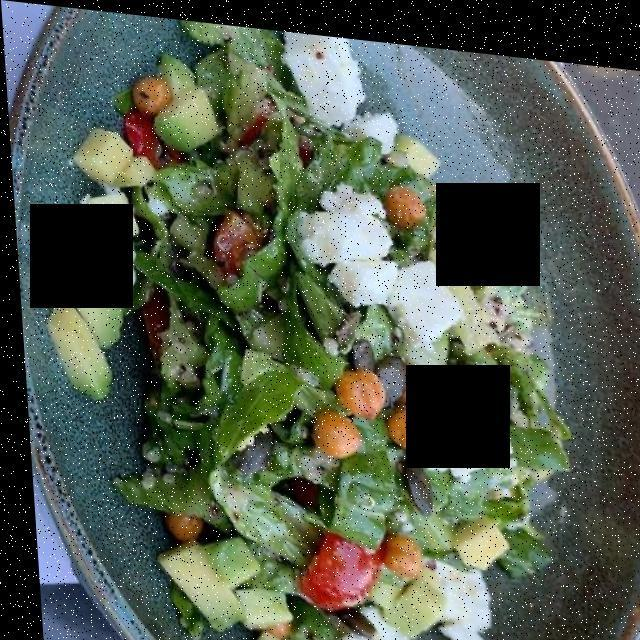avocado: (42, 96, 510, 640)
cheese: (252, 31, 522, 543)
chickpeas: (291, 170, 435, 569)
green-olives: (112, 65, 178, 121)
pumpkin-seeds: (211, 328, 512, 530)
salad: (107, 35, 551, 620)
